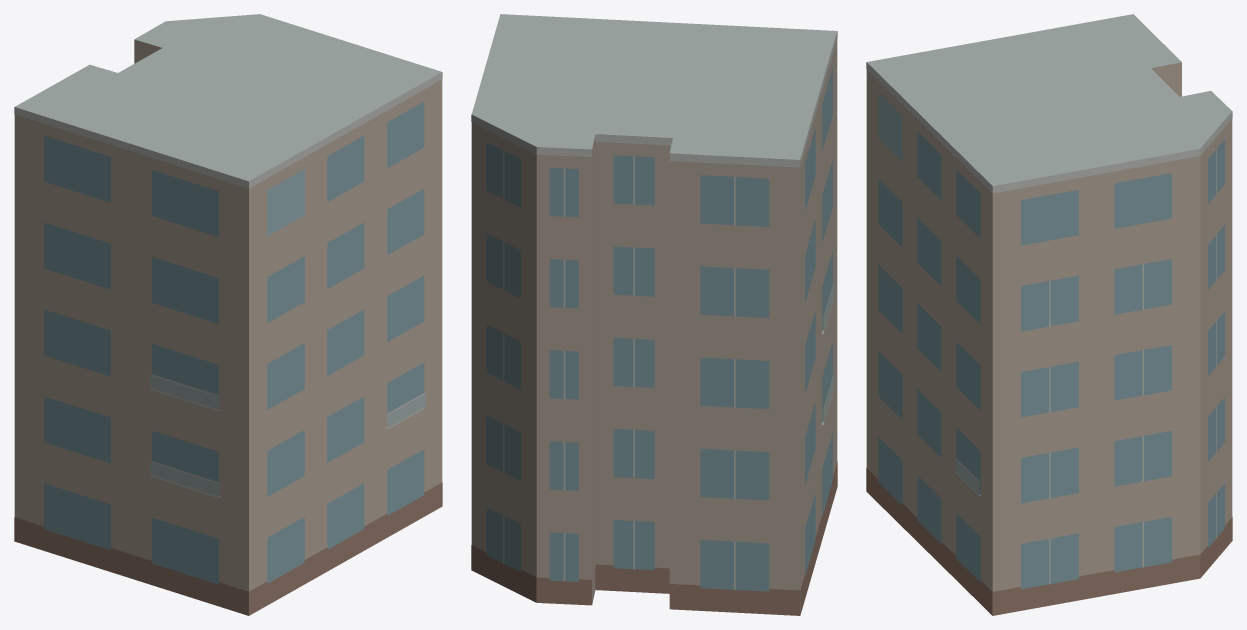
The model's file is survey-upis-32934144.glb.
3 views of the same model, side by side, from view 1: azimuth 30°, elevation 25°; view 2: azimuth 150°, elevation 25°; view 3: azimuth 270°, elevation 25° (orthographic). The views are drawn at different scales.
Parts seen in each view (by area): view 1: survey-upis-32934144.tmp; view 2: survey-upis-32934144.tmp; view 3: survey-upis-32934144.tmp.
Boxes of the visible parts, x1,y1,x2,y2 form: survey-upis-32934144.tmp: [14, 14, 442, 615]; survey-upis-32934144.tmp: [471, 14, 837, 615]; survey-upis-32934144.tmp: [866, 14, 1232, 615].
Size of the model in its own units: 12.47 by 14.5 by 11.2.
